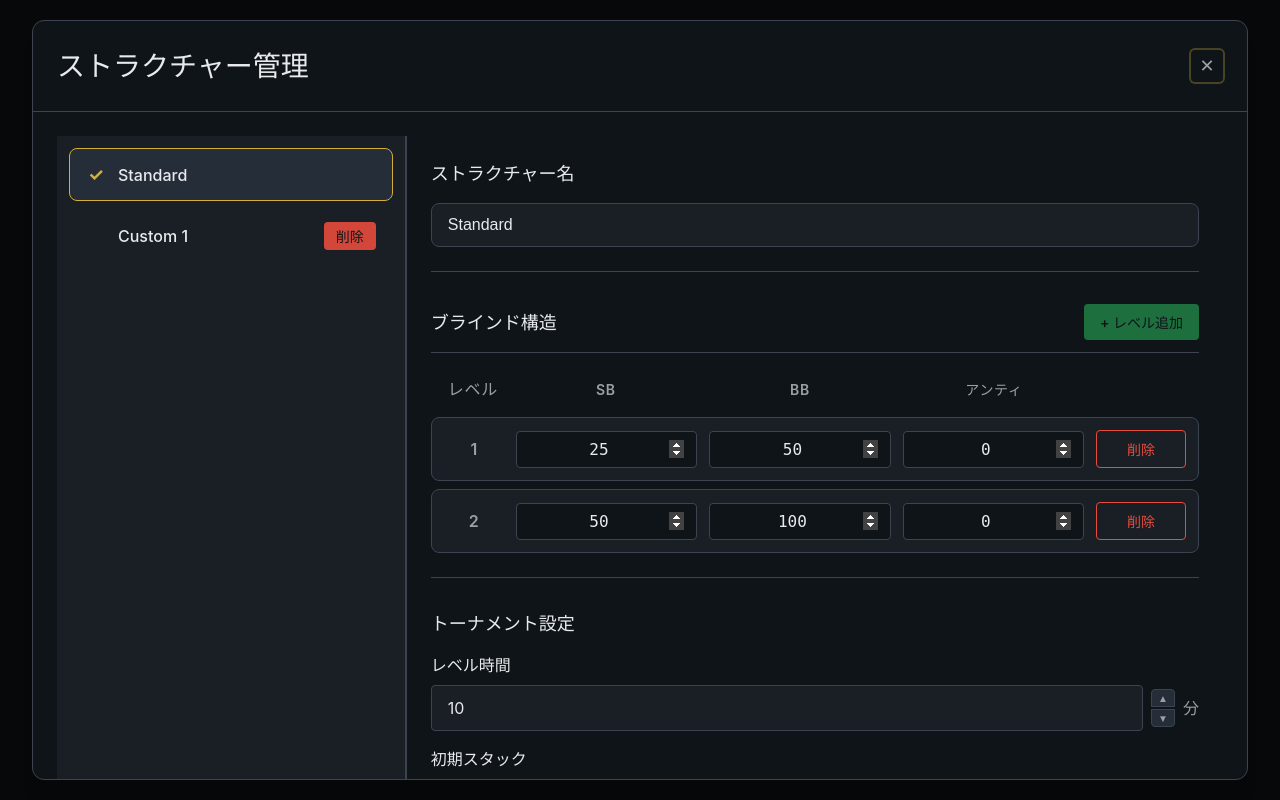
Test: StructureManagementModal › 削除ボタンクリックで確認ダイアログが表示される
Click the button with test id "delete-structure-button" at [350, 236], box [324,222,376,250]
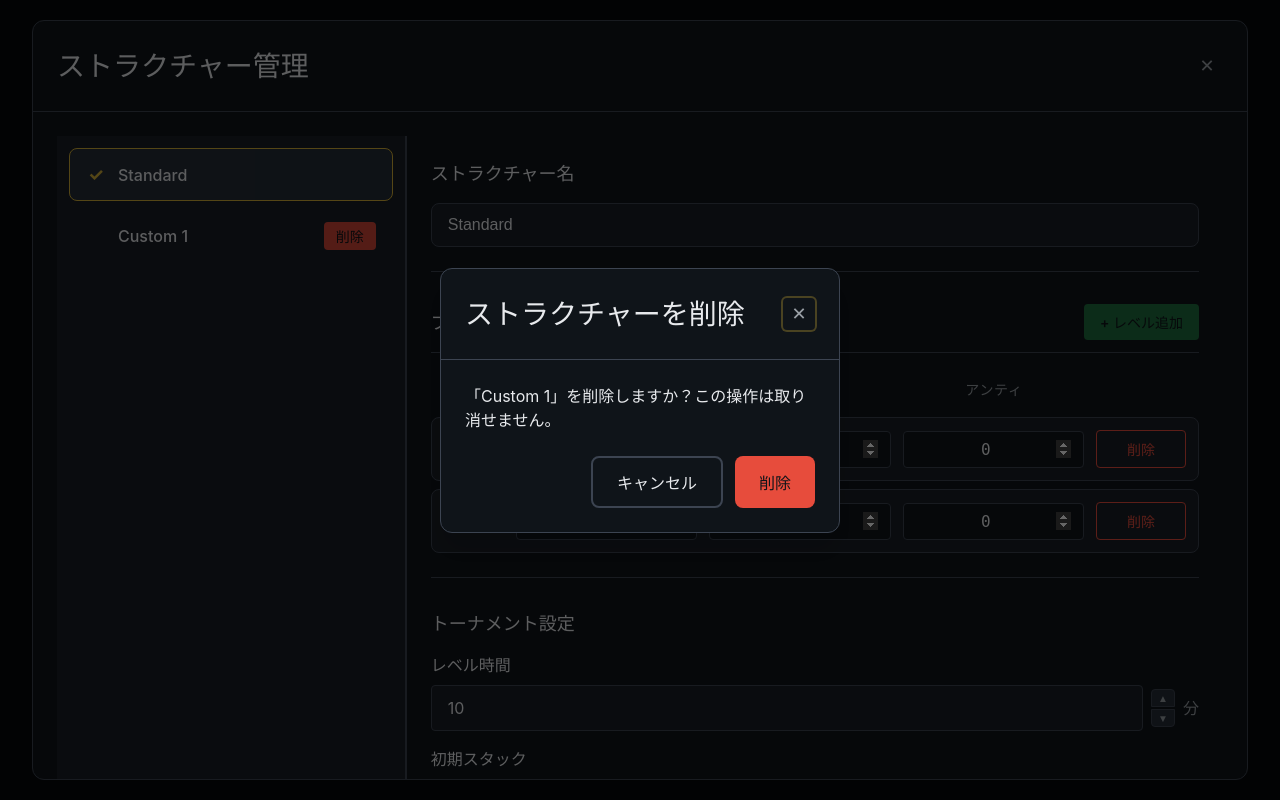
Now the heading "ストラクチャーを削除" is shown, box [465,292,745,334]
Now the text "「Custom 1」を削除しますか？この操作は取り消せません。" is shown, box [465,384,815,432]
